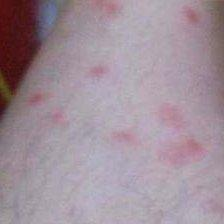Fleas: (155, 132, 208, 171), (153, 100, 192, 134), (177, 4, 206, 29), (110, 127, 140, 151), (92, 0, 125, 20), (88, 61, 108, 81), (49, 112, 66, 129), (27, 93, 45, 105)
